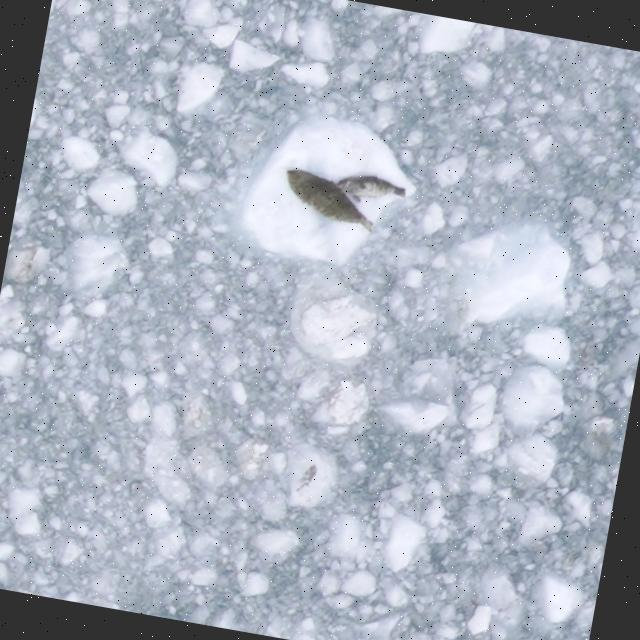seal: (274, 165, 386, 234), (327, 165, 411, 216)
